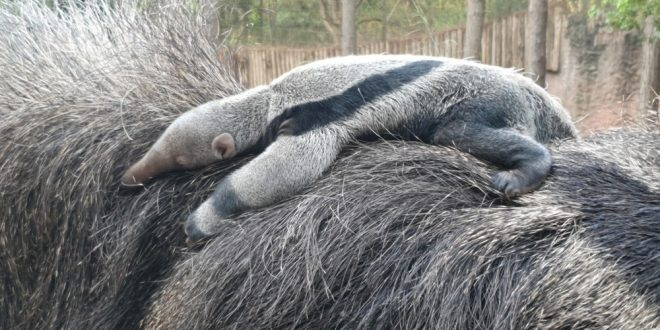TamanduaBandeira: (5, 8, 653, 321), (114, 51, 587, 244)
